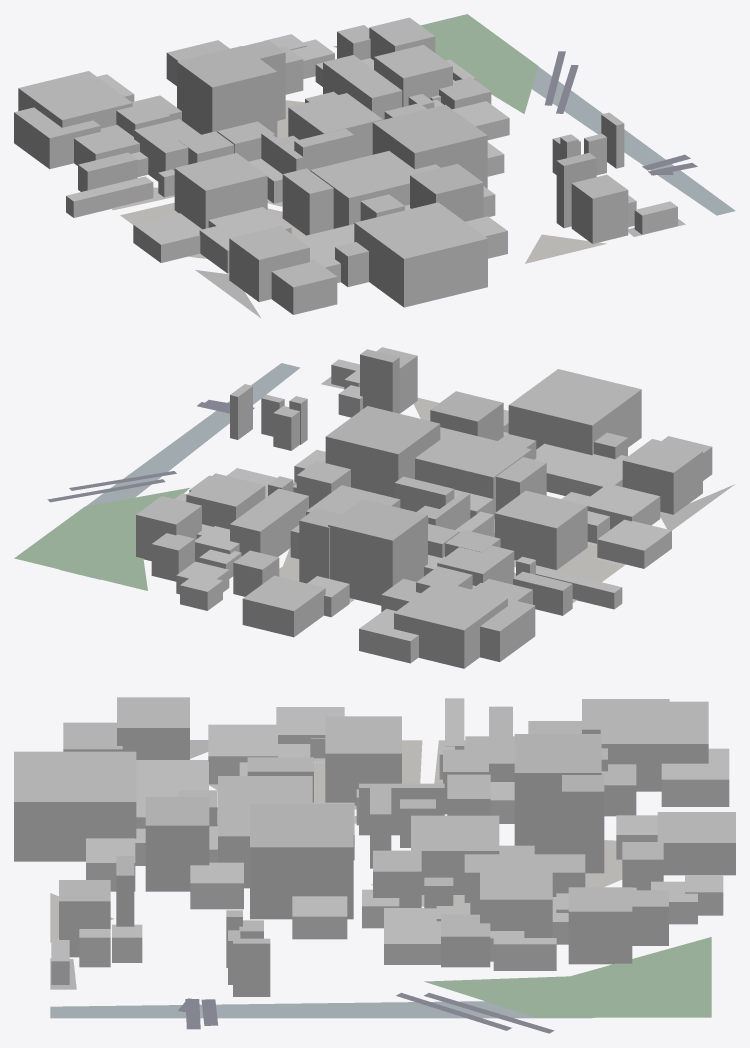
File: 127_92_mid.glb
The picture shows the model from 3 angles, top to bottom: view 1: azimuth 30°, elevation 25°; view 2: azimuth 150°, elevation 25°; view 3: azimuth 270°, elevation 25°; orthographic projection. The views are drawn at different scales.
Size of the model in its own units: 575 by 71.05 by 546.
